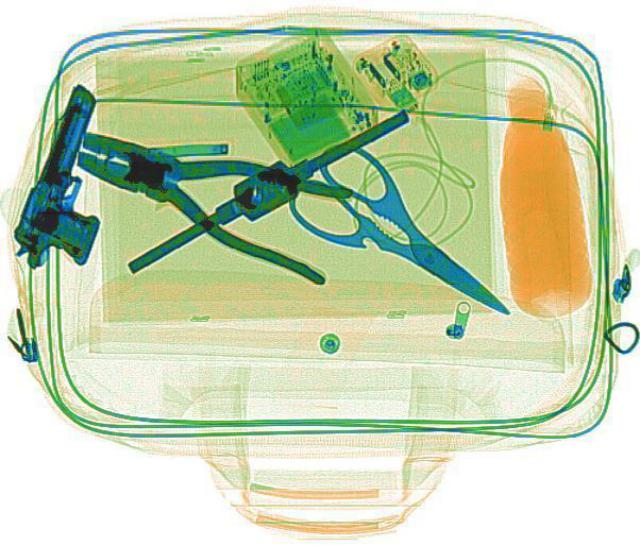Gun: (0, 80, 146, 274)
Pliers: (49, 101, 374, 286)
Scissors: (263, 133, 551, 346)
